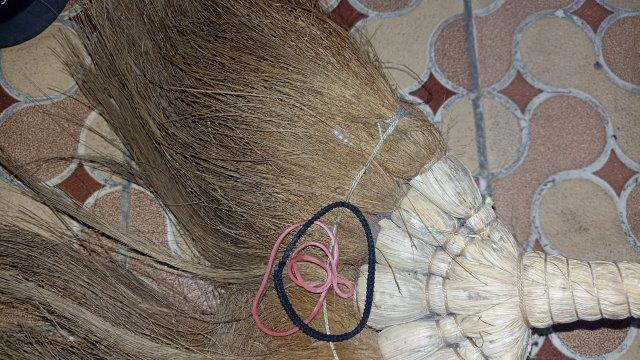karet: (252, 201, 377, 342)
